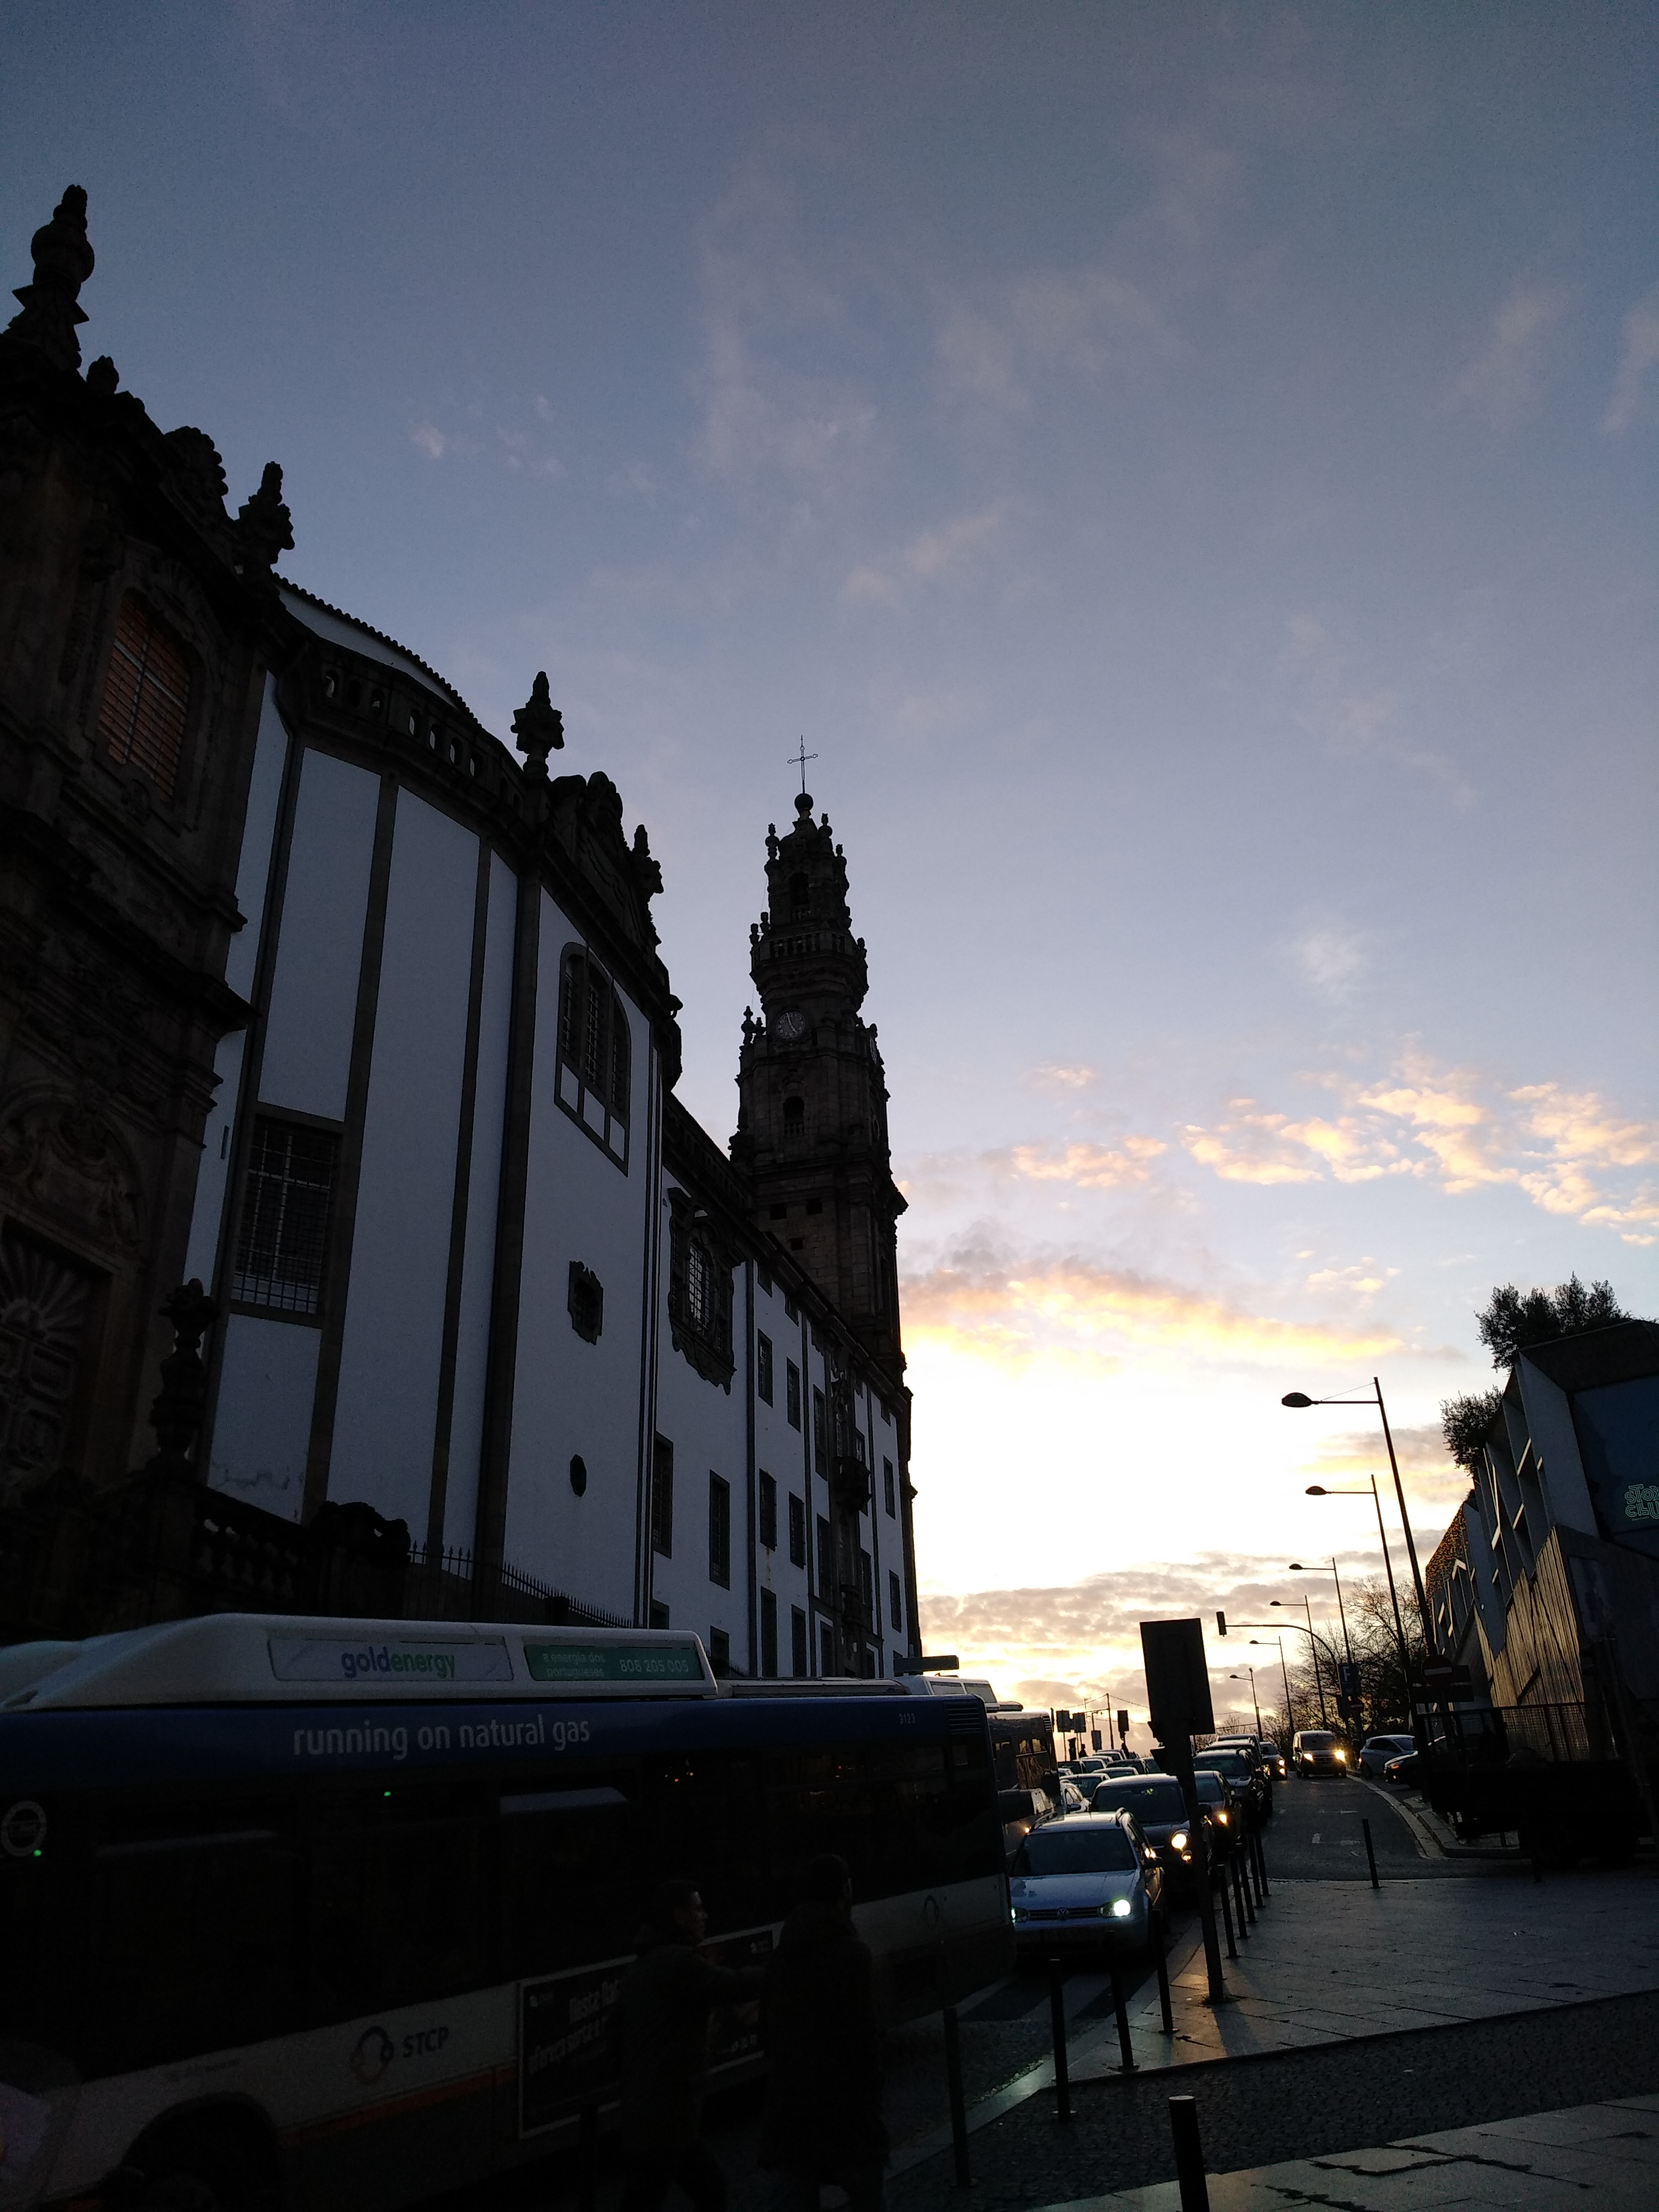clerigos: (232, 634, 699, 738)
